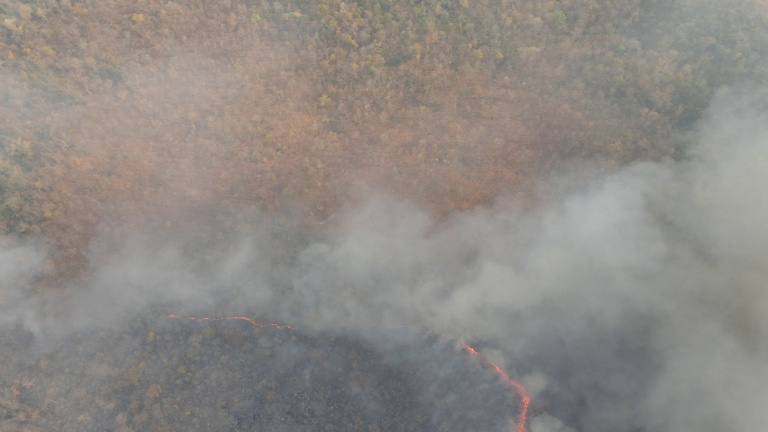fire: (440, 328, 537, 432), (163, 309, 302, 343)
smoke: (480, 180, 768, 425), (262, 200, 499, 353), (3, 239, 253, 325)
